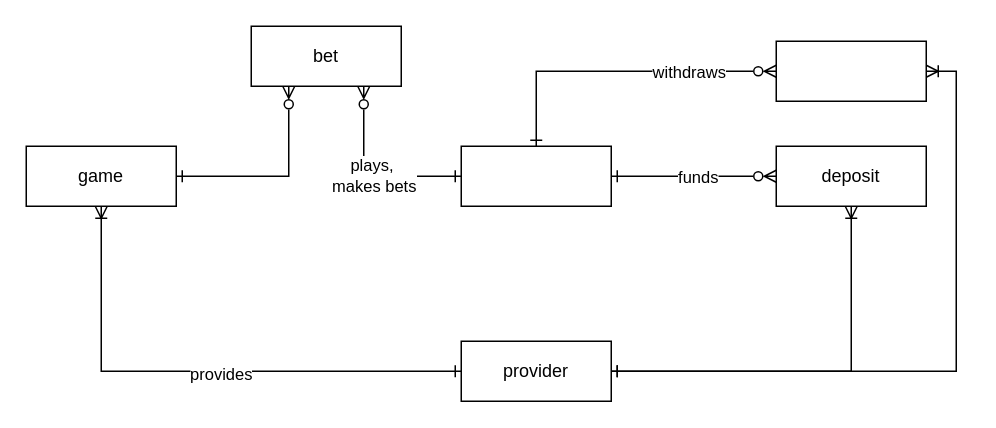
Image size: 996x428. Some labels were removed from this diagram. Each missing label, with the centre of its shape:
"player" goes at (x=535, y=175).
"withdrawal" goes at (x=850, y=70).
